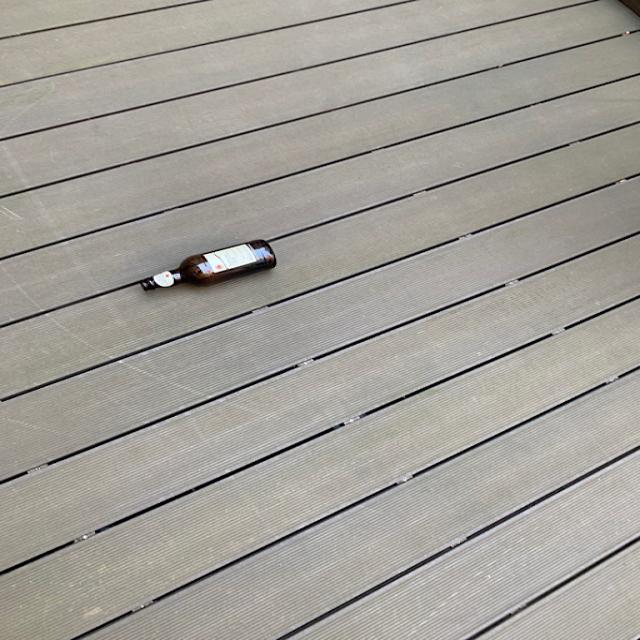litter: (135, 242, 277, 296)
